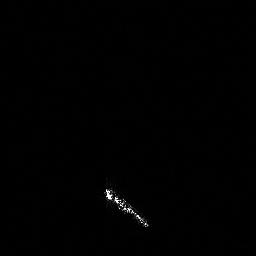ship: (100, 185, 152, 231)
